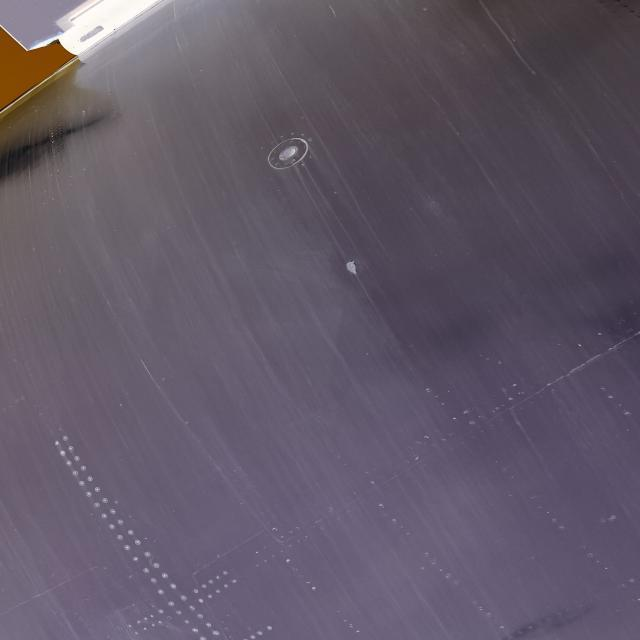crack: (136, 349, 175, 402), (344, 263, 362, 281)
